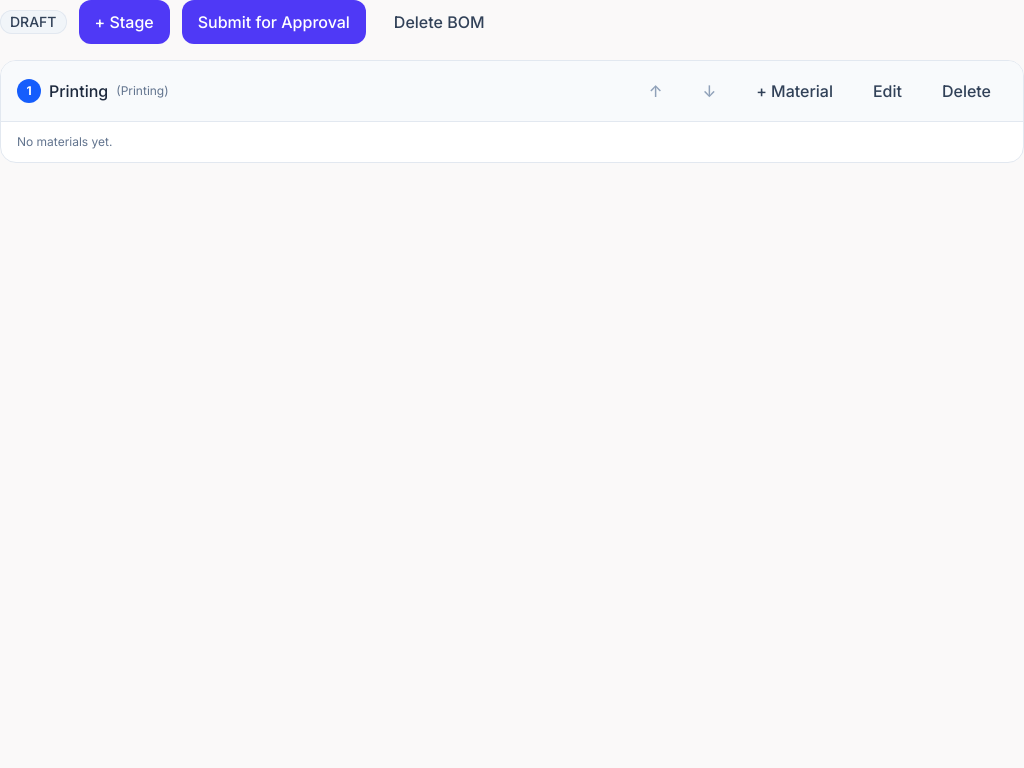
it: R2-70 BOM stage picker › uses a process dropdown instead of free text when master processes exist
Click the button "+ Stage" at coordinates (124, 22), box [78,0,170,44]
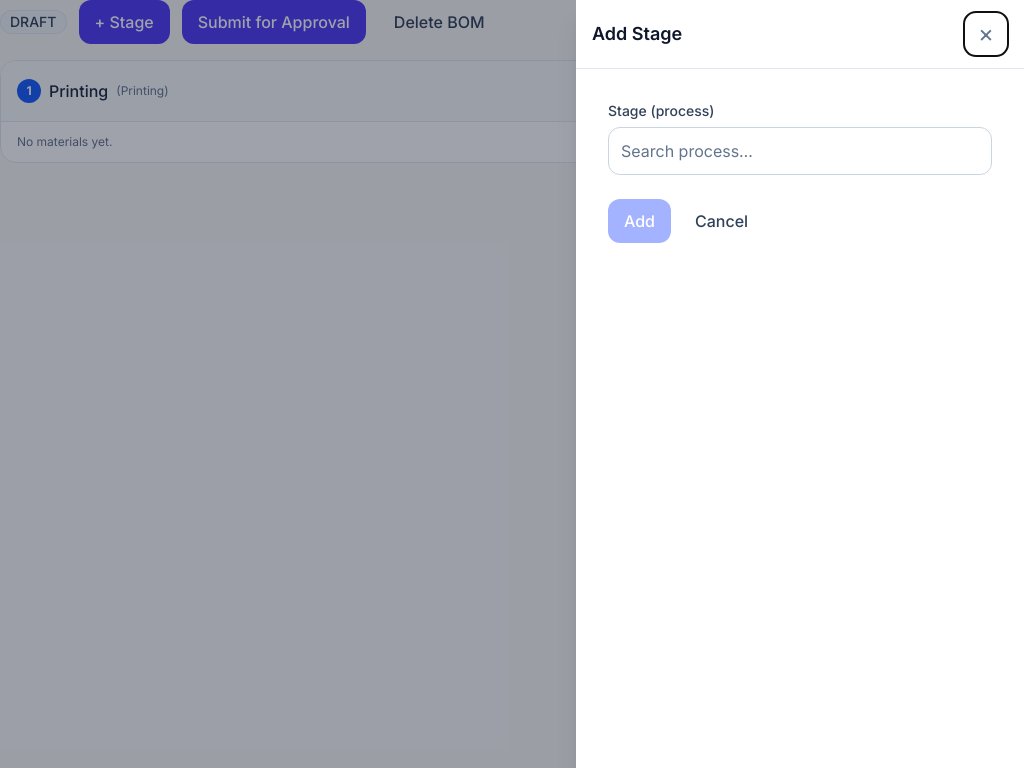
Now the text "Stage (process)" is shown, box [608,102,714,119]
